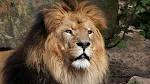lion: (1, 9, 107, 84)
